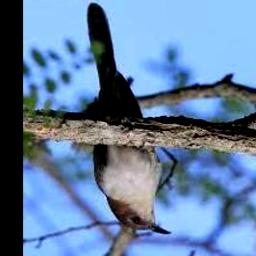Cuckoo: (86, 3, 172, 235)
